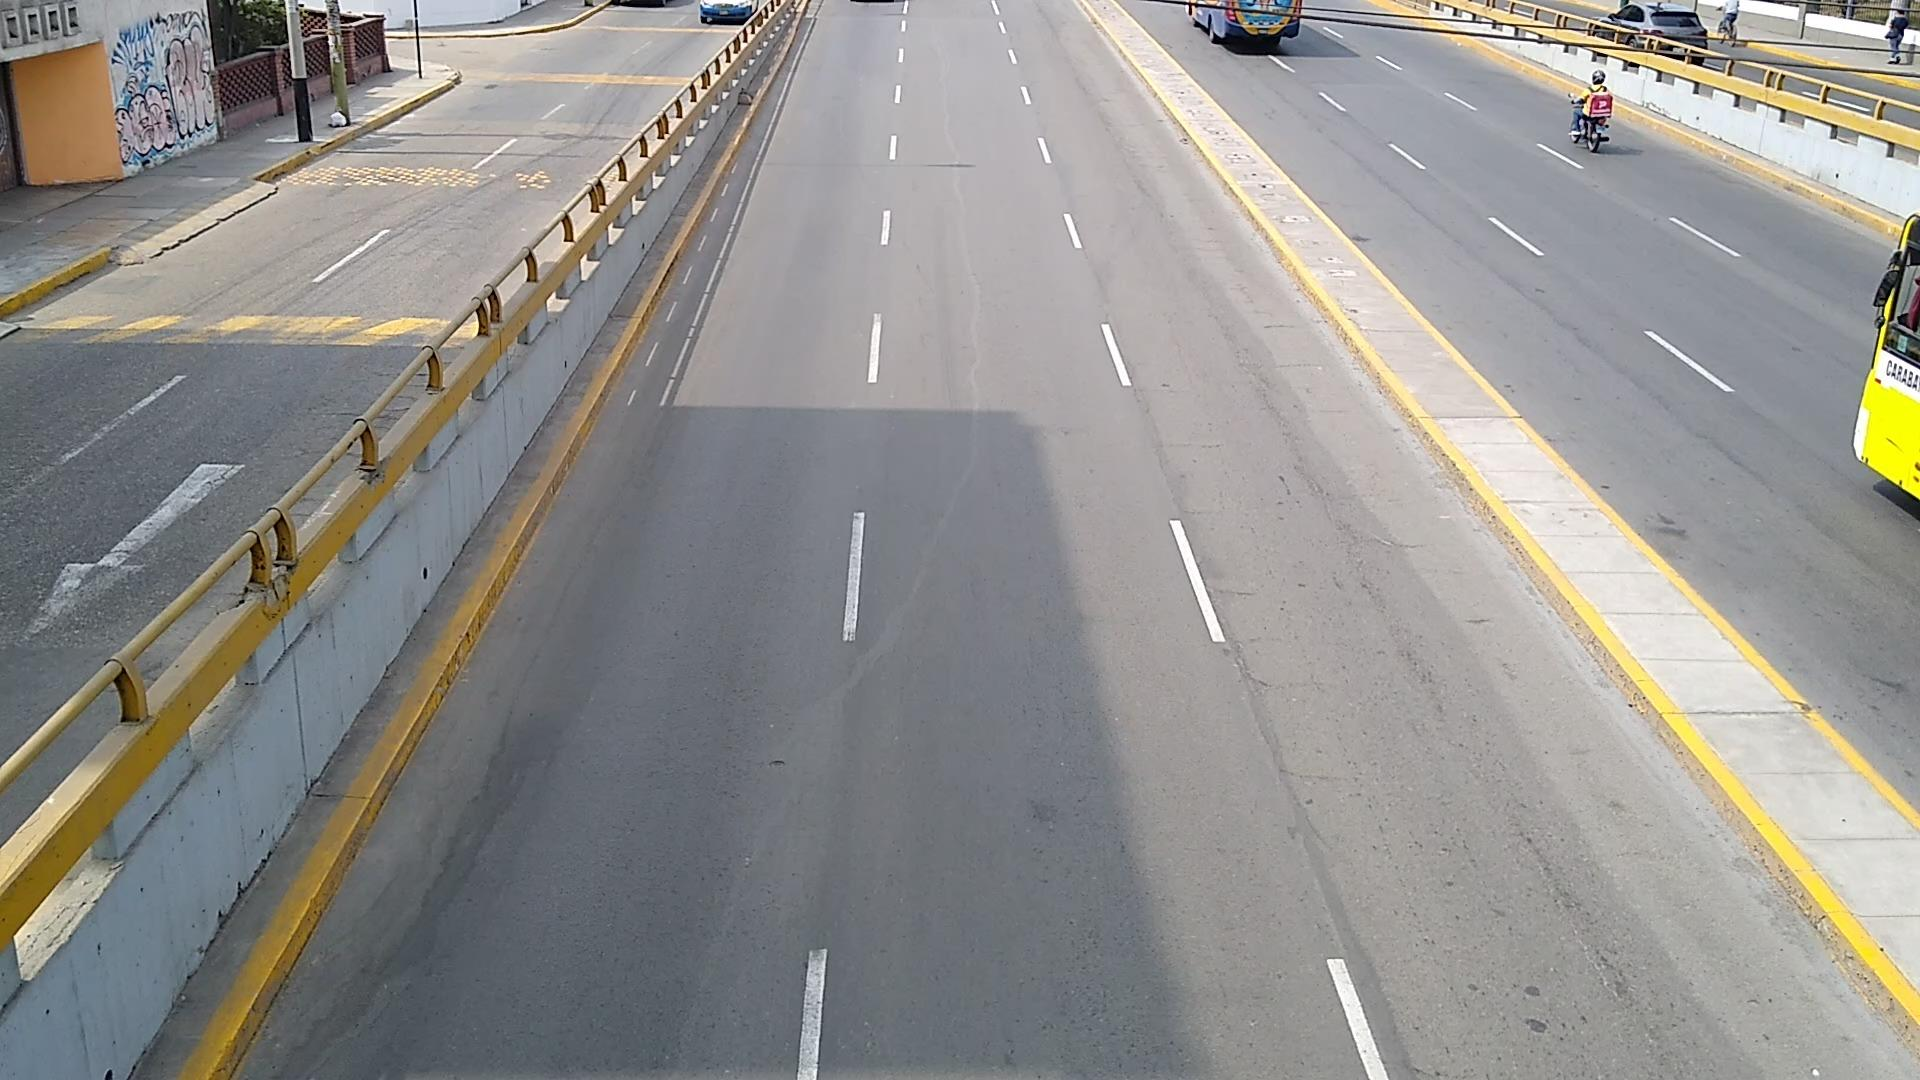car: (1853, 214, 1920, 498)
